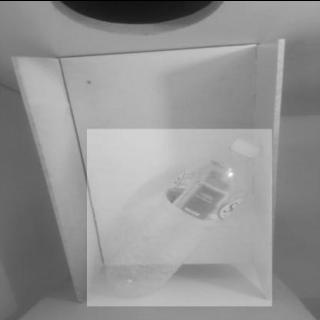plastic_bottles: (87, 128, 271, 306)
